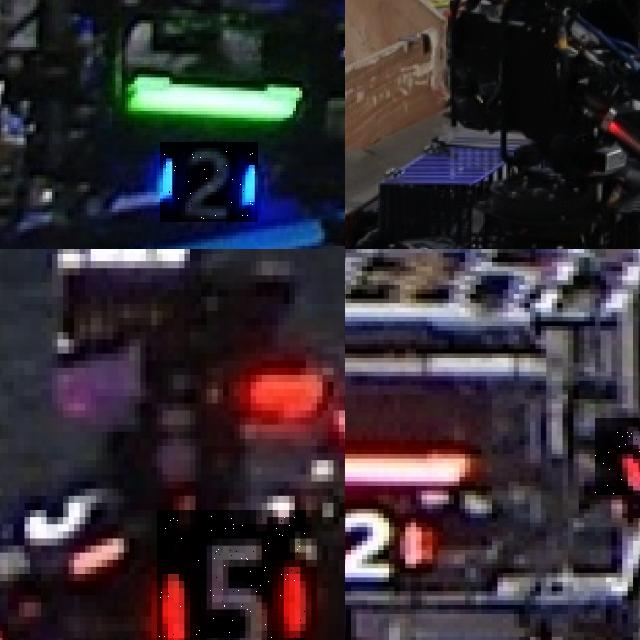B2: (160, 142, 258, 222)
R2: (345, 499, 432, 582), (595, 417, 640, 495)
R5: (157, 510, 306, 640), (8, 453, 135, 581)
